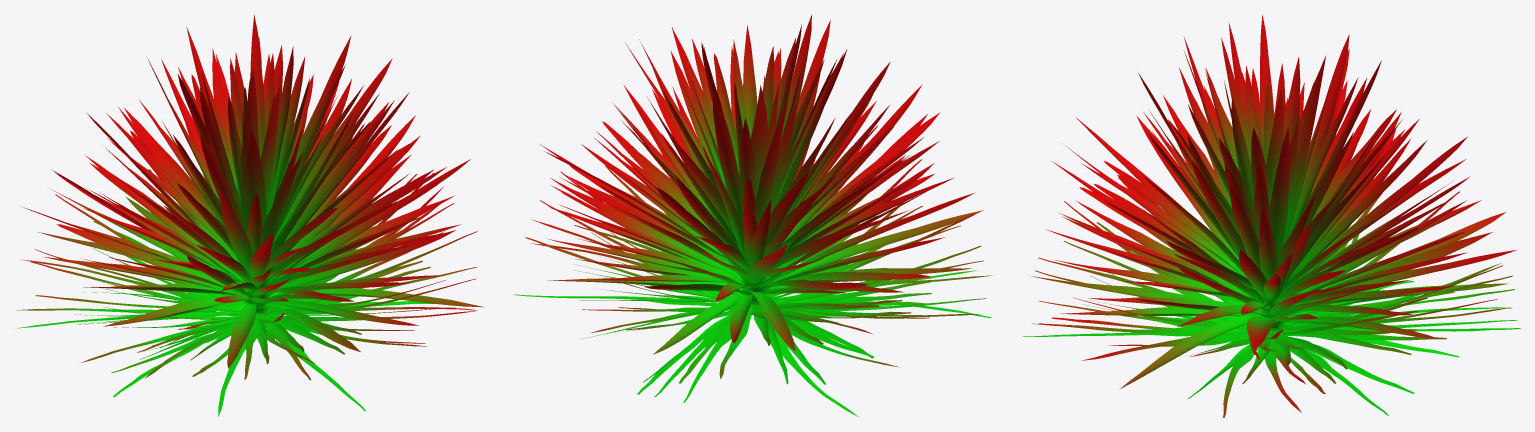
File: Var10_LOD0.fbx
The picture shows the model from 3 angles, left to right: view 1: azimuth 30°, elevation 25°; view 2: azimuth 150°, elevation 25°; view 3: azimuth 270°, elevation 25°; orthographic projection. The views are drawn at different scales.
Visible parts, largest first — view 1: _nqnm_Var10_LOD0; view 2: _nqnm_Var10_LOD0; view 3: _nqnm_Var10_LOD0.
Part boxes in pixels (bbox=[...]): _nqnm_Var10_LOD0: bbox=[15, 15, 484, 416]; _nqnm_Var10_LOD0: bbox=[514, 14, 993, 416]; _nqnm_Var10_LOD0: bbox=[1023, 14, 1520, 417].
Size of the model in its own units: 98.26 by 67.82 by 98.66.
